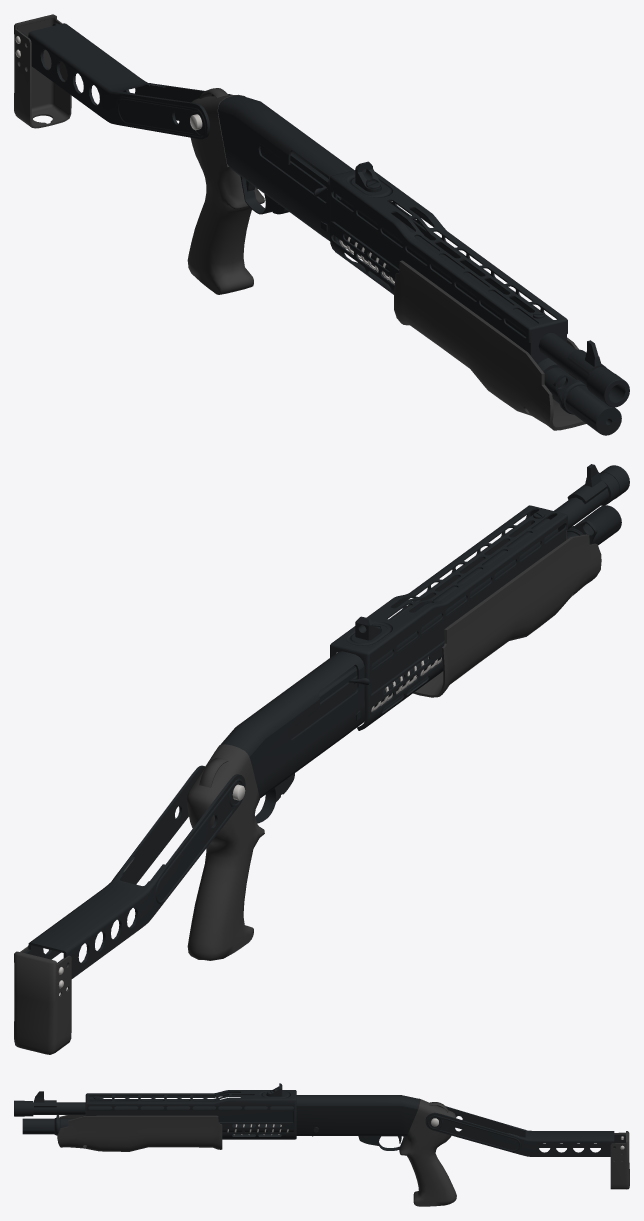
3 renders of one model, top to bottom at view 1: azimuth 30°, elevation 25°; view 2: azimuth 150°, elevation 25°; view 3: azimuth 270°, elevation 25°, orthographic. The views are drawn at different scales.
Parts seen in each view (by area): view 1: MAIN_MAIN_0__misc, MAIN_MAIN_0, PUMP_MAIN_0, STOCK.001, STOCK_B.001, EXTTRACTOR; view 2: MAIN_MAIN_0__misc, MAIN_MAIN_0, STOCK.001, PUMP_MAIN_0, STOCK_B.001, EXTTRACTOR; view 3: MAIN_MAIN_0__misc, MAIN_MAIN_0, PUMP_MAIN_0, STOCK.001, STOCK_B.001.
Boxes of the visible parts, x1,y1,x2,y2 form: MAIN_MAIN_0__misc: (199, 88, 629, 435); MAIN_MAIN_0: (187, 95, 582, 414); PUMP_MAIN_0: (394, 260, 582, 429); STOCK.001: (15, 23, 232, 139); STOCK_B.001: (14, 14, 71, 128); EXTTRACTOR: (265, 148, 341, 202); MAIN_MAIN_0__misc: (199, 464, 629, 960); MAIN_MAIN_0: (187, 505, 583, 959); STOCK.001: (24, 765, 245, 988); PUMP_MAIN_0: (415, 534, 601, 696); STOCK_B.001: (14, 946, 71, 1054); EXTTRACTOR: (290, 665, 369, 738); MAIN_MAIN_0__misc: (14, 1083, 453, 1202); MAIN_MAIN_0: (56, 1090, 456, 1206); PUMP_MAIN_0: (57, 1115, 222, 1151); STOCK.001: (425, 1105, 625, 1156); STOCK_B.001: (610, 1131, 629, 1189).
Size of the model in its own units: 0.0637 by 0.2519 by 1.19.
Materials: 1 (1 with a texture image).
